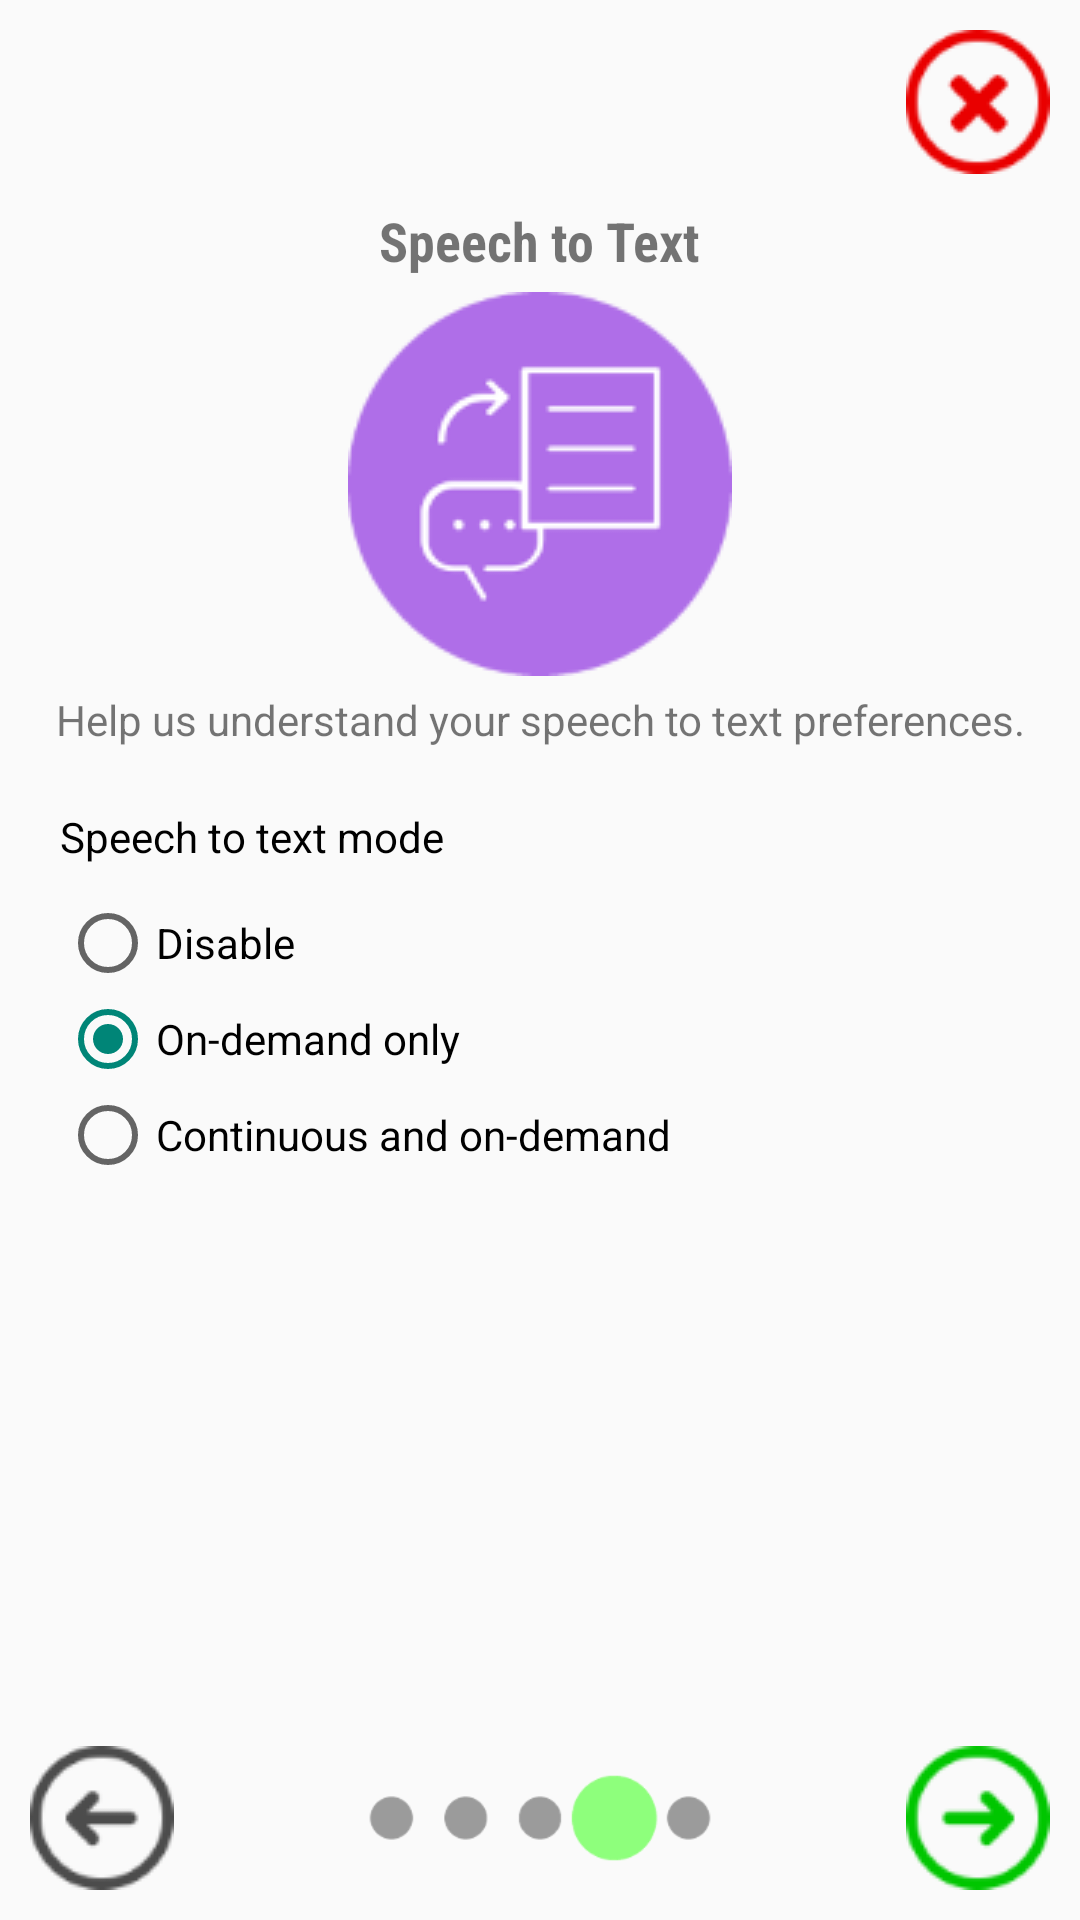

Screen size 1080 x 1920. Icon name, then its center in pixels as [x,y]:
next: [978,1818]
prev: [102,1818]
skip: [978,102]
